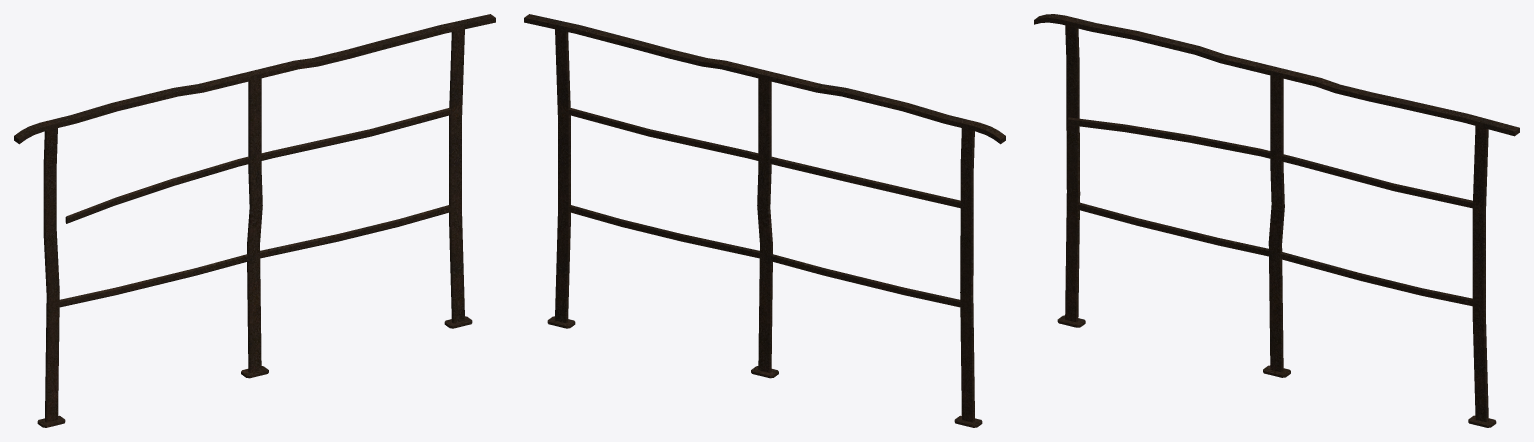
The model's file is hand_rail_3.glb.
3 views of the same model, side by side, from view 1: azimuth 30°, elevation 25°; view 2: azimuth 150°, elevation 25°; view 3: azimuth 330°, elevation 25° (orthographic).
Parts seen in each view (by area): view 1: hand_rail_3; view 2: hand_rail_3; view 3: hand_rail_3.
Part boxes in pixels (<box>): hand_rail_3: <box>14,14,495,427</box>; hand_rail_3: <box>524,14,1005,427</box>; hand_rail_3: <box>1034,14,1519,427</box>.
Size of the model in its own units: 2.11 by 1.28 by 0.1054.
1 material, 1 textured.
